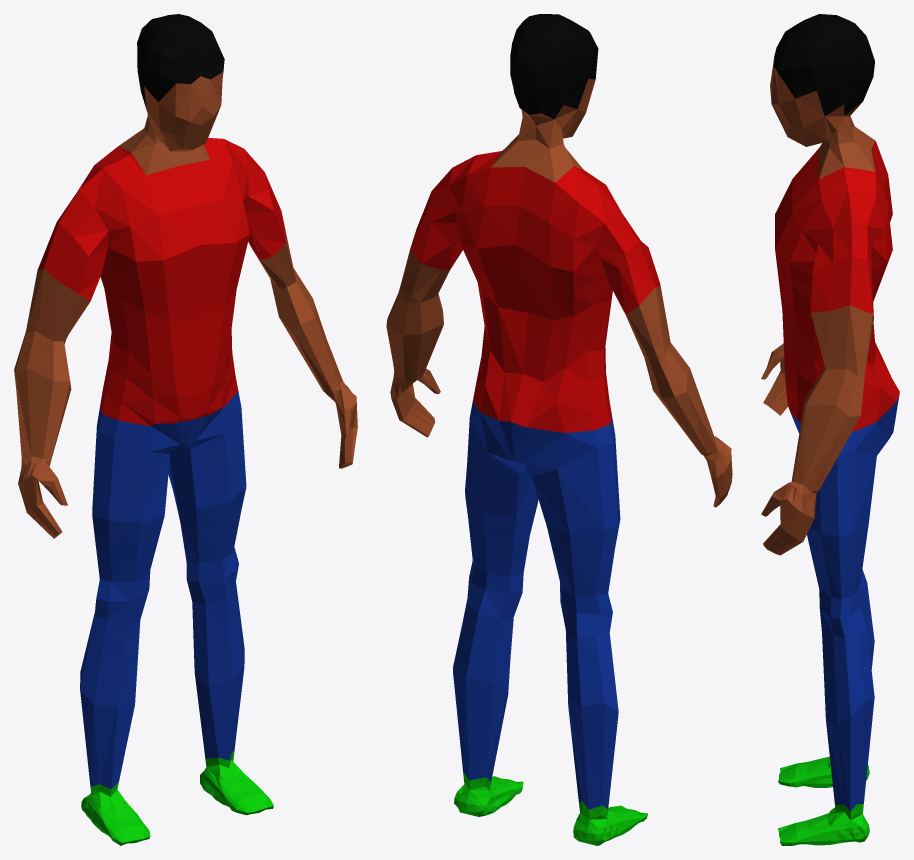
File: Character1.obj
3 views of the same model, side by side, from view 1: azimuth 30°, elevation 25°; view 2: azimuth 150°, elevation 25°; view 3: azimuth 270°, elevation 25° (orthographic).
Visible parts, largest first — view 1: Cube_Cube.002; view 2: Cube_Cube.002; view 3: Cube_Cube.002.
Boxes of the visible parts, x1,y1,x2,y2 form: Cube_Cube.002: (14, 14, 357, 845); Cube_Cube.002: (386, 14, 732, 845); Cube_Cube.002: (761, 14, 899, 845).
Bounding box in the file's own units: 0.7745 × 1.76 × 0.2798.
